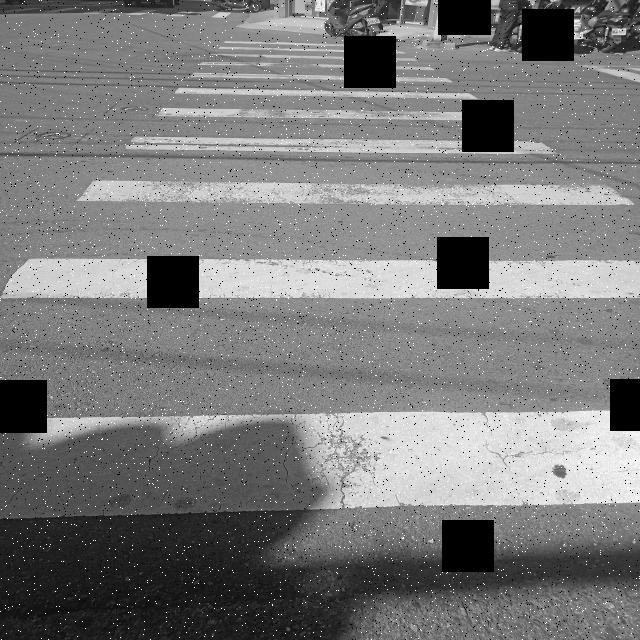person: (490, 0, 530, 52)
zebra crossing: (0, 43, 640, 520), (25, 8, 234, 20)
